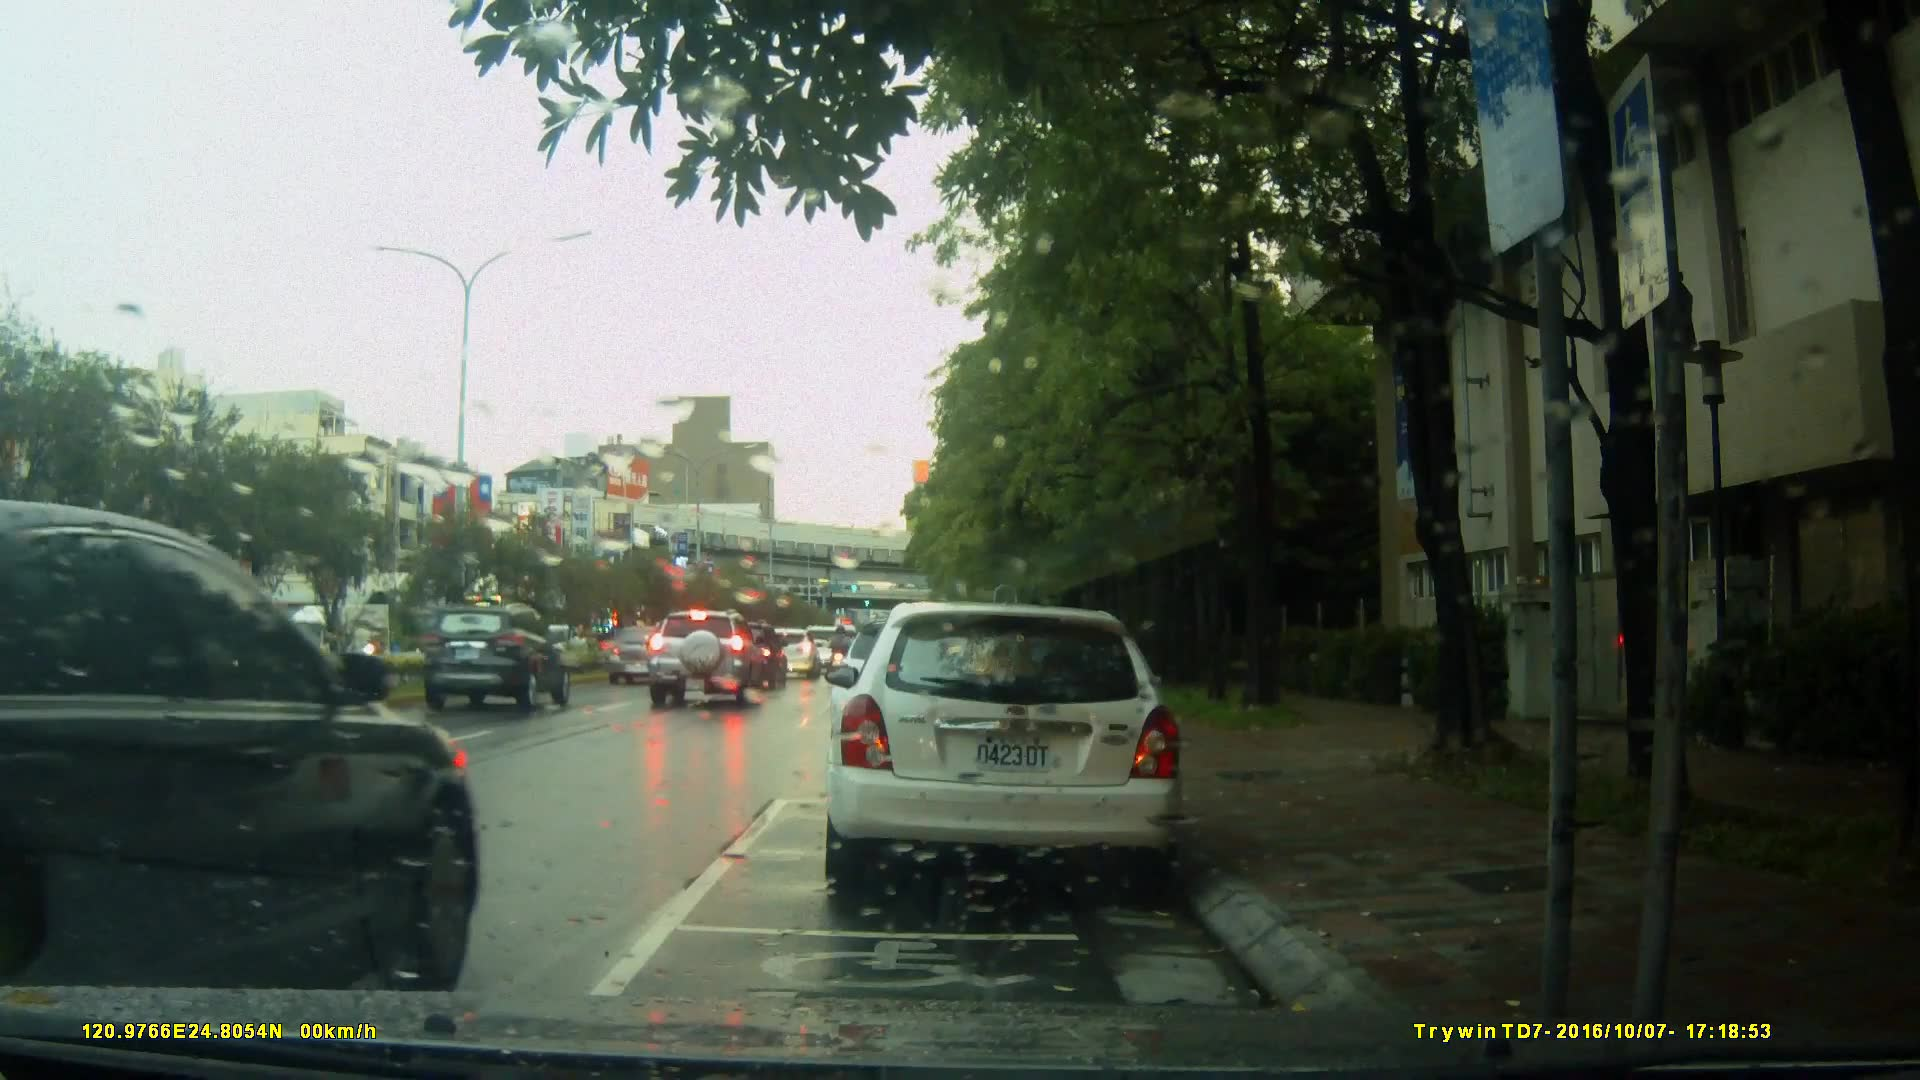rider: (825, 625, 859, 694)
vehicle: (1, 500, 485, 988), (820, 602, 1188, 898), (419, 602, 574, 710), (646, 609, 762, 711)
